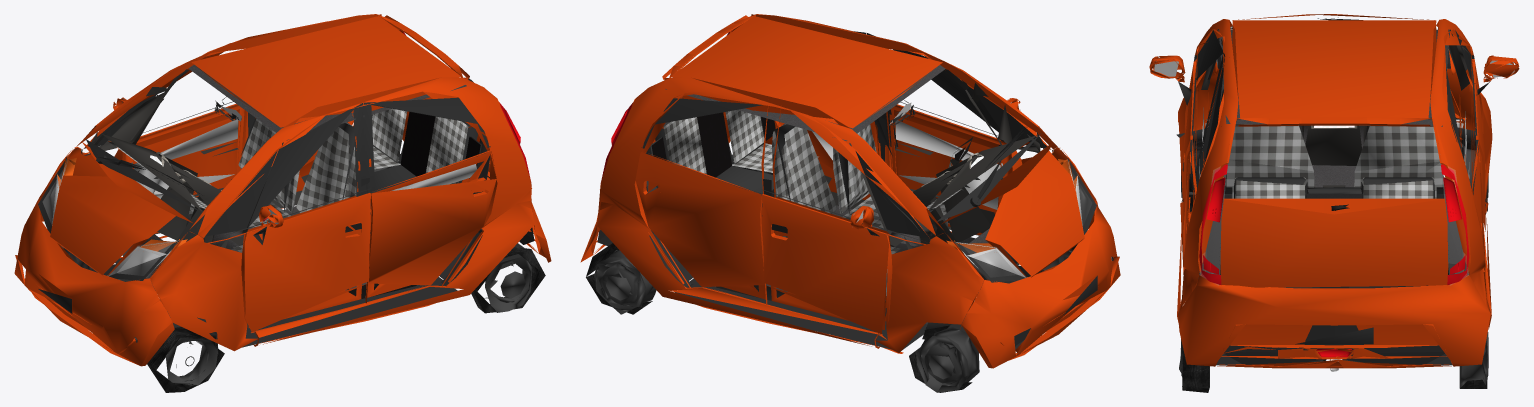
Rendered from nano_lod.glb.
3 renders of one model, left to right at view 1: azimuth 30°, elevation 25°; view 2: azimuth 150°, elevation 25°; view 3: azimuth 270°, elevation 25°, orthographic. The views are drawn at different scales.
Visible parts, largest first — view 1: Object_11, Object_18, Object_32, Object_30, Object_50, Object_38, Object_52, Object_40, Object_48, Object_46, Object_16, Object_7 (+1 smaller); view 2: Object_11, Object_18, Object_32, Object_30, Object_50, Object_40, Object_48, Object_46, Object_38, Object_16, Object_52, Object_7 (+1 smaller); view 3: Object_11, Object_32, Object_18, Object_40, Object_30, Object_20, Object_46, Object_52, Object_16, Object_50, Object_7.
Boxes of the visible parts, x1,y1,x2,y2 form: Object_11: [14, 14, 551, 366]; Object_18: [38, 94, 534, 347]; Object_32: [117, 108, 468, 252]; Object_30: [89, 69, 469, 298]; Object_50: [61, 165, 532, 385]; Object_38: [131, 119, 477, 198]; Object_52: [147, 165, 545, 392]; Object_40: [122, 65, 490, 290]; Object_48: [400, 112, 480, 180]; Object_46: [241, 114, 486, 211]; Object_16: [43, 161, 174, 277]; Object_7: [52, 98, 278, 276]; Object_11: [580, 14, 1120, 368]; Object_18: [597, 31, 1113, 350]; Object_32: [664, 110, 993, 254]; Object_30: [716, 69, 1045, 316]; Object_50: [594, 167, 1073, 392]; Object_40: [646, 65, 1017, 324]; Object_48: [651, 112, 965, 177]; Object_46: [646, 117, 972, 213]; Object_38: [812, 120, 1002, 295]; Object_16: [958, 163, 1111, 279]; Object_52: [586, 166, 1077, 392]; Object_7: [853, 102, 1111, 277]; Object_11: [1149, 14, 1519, 368]; Object_32: [1223, 124, 1444, 198]; Object_18: [1176, 17, 1489, 365]; Object_40: [1207, 29, 1461, 273]; Object_30: [1201, 27, 1469, 288]; Object_20: [1199, 164, 1469, 357]; Object_46: [1206, 125, 1462, 257]; Object_52: [1182, 139, 1487, 392]; Object_16: [1200, 167, 1468, 285]; Object_50: [1179, 142, 1488, 388]; Object_7: [1154, 59, 1514, 371].
Size of the model in its own units: 2.47 by 1.27 by 1.58.
Materials: 22 (8 with a texture image).
